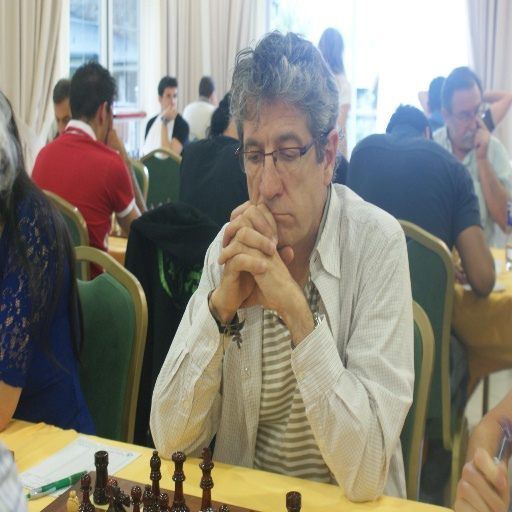hand: (215, 196, 299, 311), (215, 198, 295, 310), (457, 410, 509, 512), (471, 113, 491, 159), (104, 128, 125, 155), (160, 103, 179, 123)
